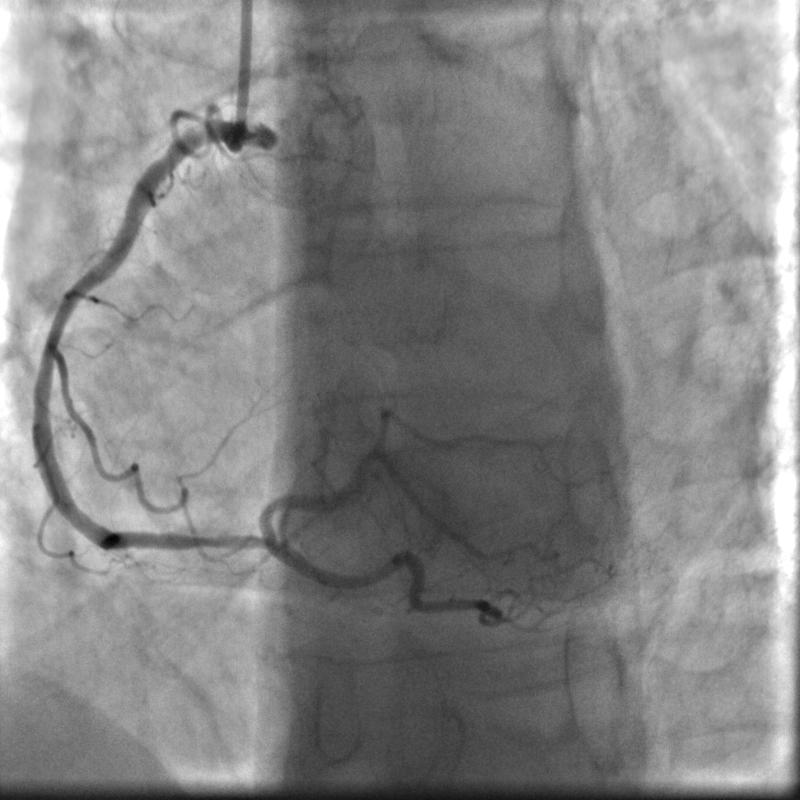Stenosis: (174, 523, 263, 559)
